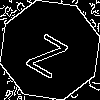Z: (25, 25, 74, 79)
